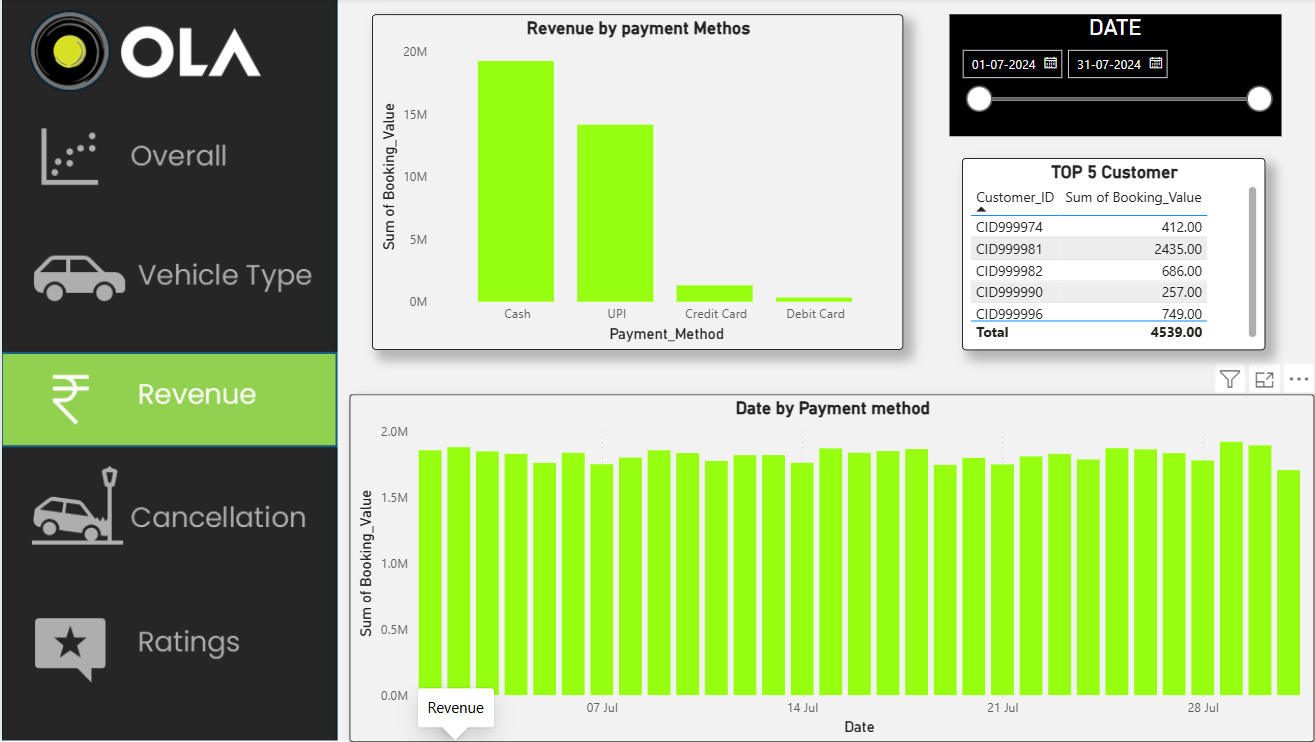

Layout of this report page (visuals, bound fields, positions):
{"tool":"powerbi","page":{"name":"Revenue ","canvas":[1280,720],"ordinal":2},"visuals":[{"type":"actionButton","box":[0,340.2,322.1,92.9],"z":0},{"type":"actionButton","box":[0,222,322.1,92.9],"z":1000},{"type":"actionButton","box":[0,453.6,322.1,92.9],"z":2000},{"type":"actionButton","box":[0,581.5,322.1,85.7],"z":3000},{"type":"columnChart","title":"Revenue by payment Methos ","fields":{"Y":["Sum(ola ola_d.Booking_Value)"],"Category":["ola ola_d.Payment_Method"]},"box":[357.1,15.7,512.9,324.3],"z":3001},{"type":"columnChart","title":"Date by Payment method ","fields":{"Y":["Sum(ola ola_d.Booking_Value)"],"Category":["ola ola_d.Date"]},"box":[335.7,382.9,931.4,337.1],"z":3002},{"type":"slicer","title":"DATE","fields":{"Values":["ola ola_d.Date"]},"box":[914.3,15.7,320,117.1],"z":3003},{"type":"tableEx","title":"TOP 5 Customer ","fields":{"Values":["ola ola_d.Customer_ID","Sum(ola ola_d.Booking_Value)"]},"box":[927.1,154.3,292.9,185.7],"z":3004}]}

Visuals, with their boxes in screenshot pixels (x1, y1, x2, y2), scaled from the page's 1280x720 canvas onto the 1315x742 screenshot:
actionButton: 0:351:331:446
actionButton: 0:229:331:325
actionButton: 0:467:331:563
actionButton: 0:599:331:688
"Revenue by payment Methos " columnChart: 367:16:894:350
"Date by Payment method " columnChart: 345:395:1302:741
"DATE" slicer: 939:16:1268:137
"TOP 5 Customer " tableEx: 952:159:1253:350
